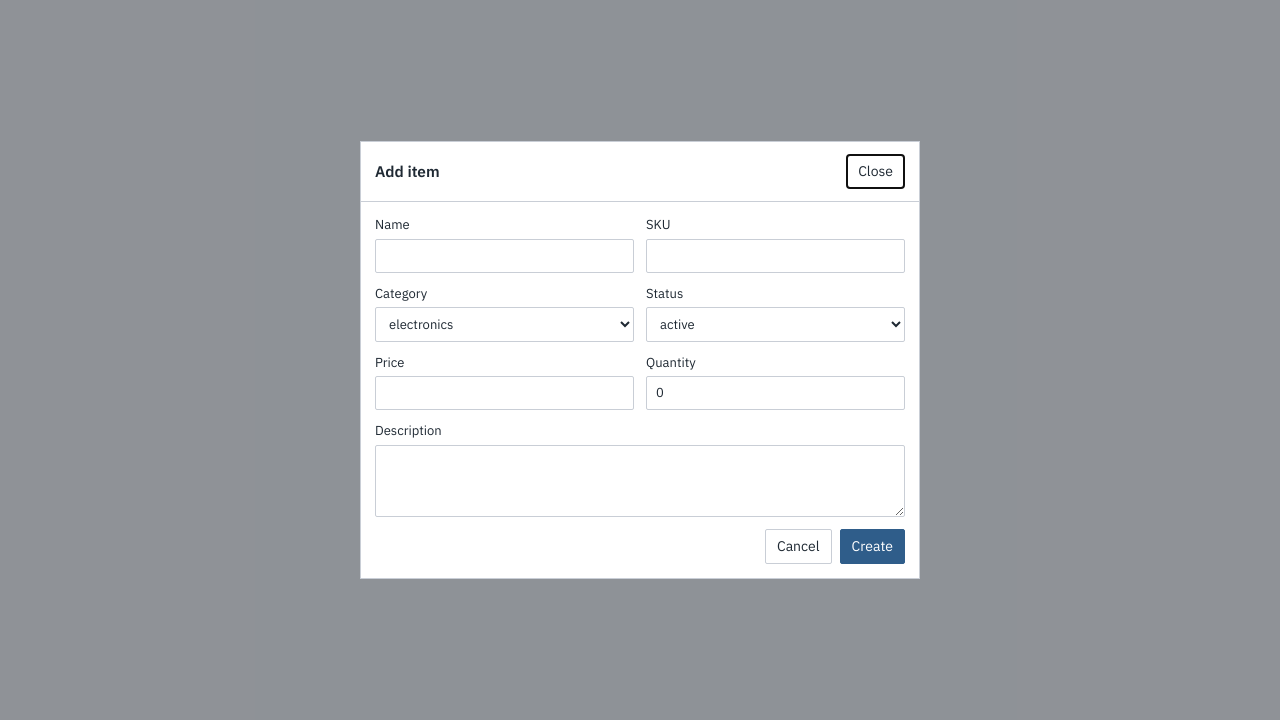
ItemFormModal › shows validation error when name missing
The width and height of the screenshot is (1280, 720).
Type "SKU-X" into the field labelled "SKU".
click(776, 256); type("SKU-X")  # box x1=646 y1=239 x2=905 y2=273
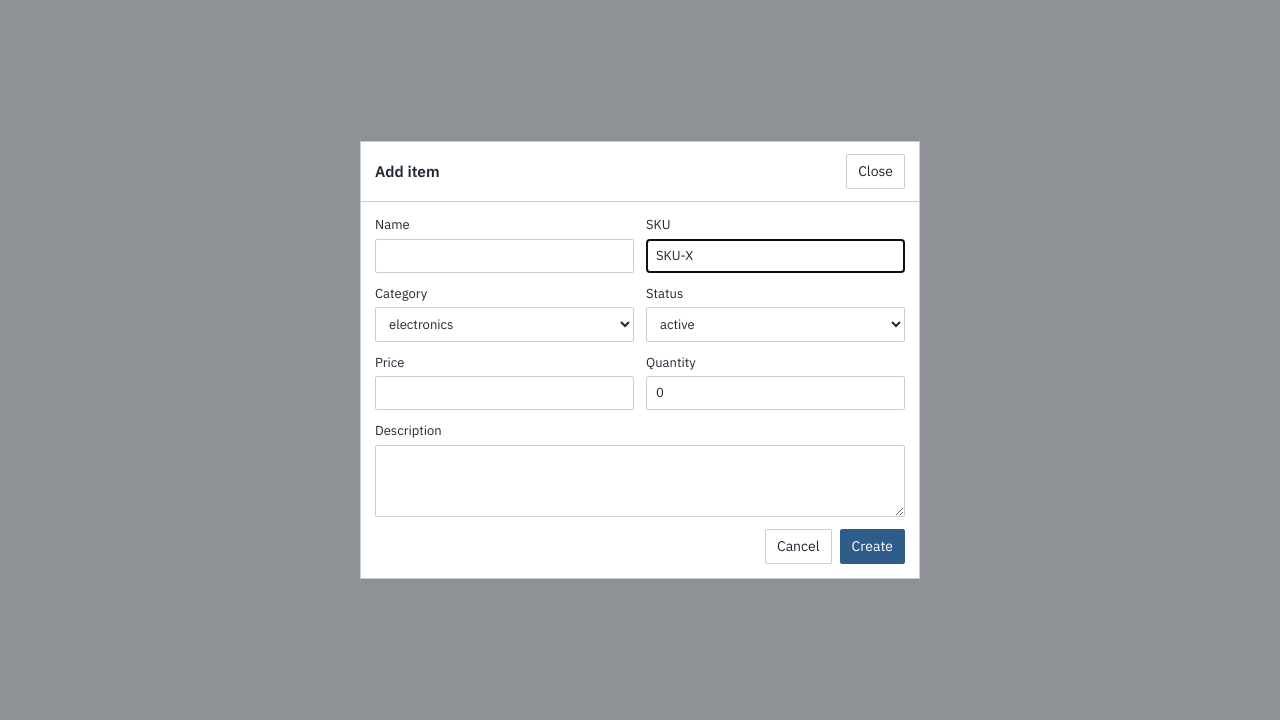
Type "1" into the number field labelled "Price".
click(504, 393); type("1")  # box x1=375 y1=376 x2=634 y2=410
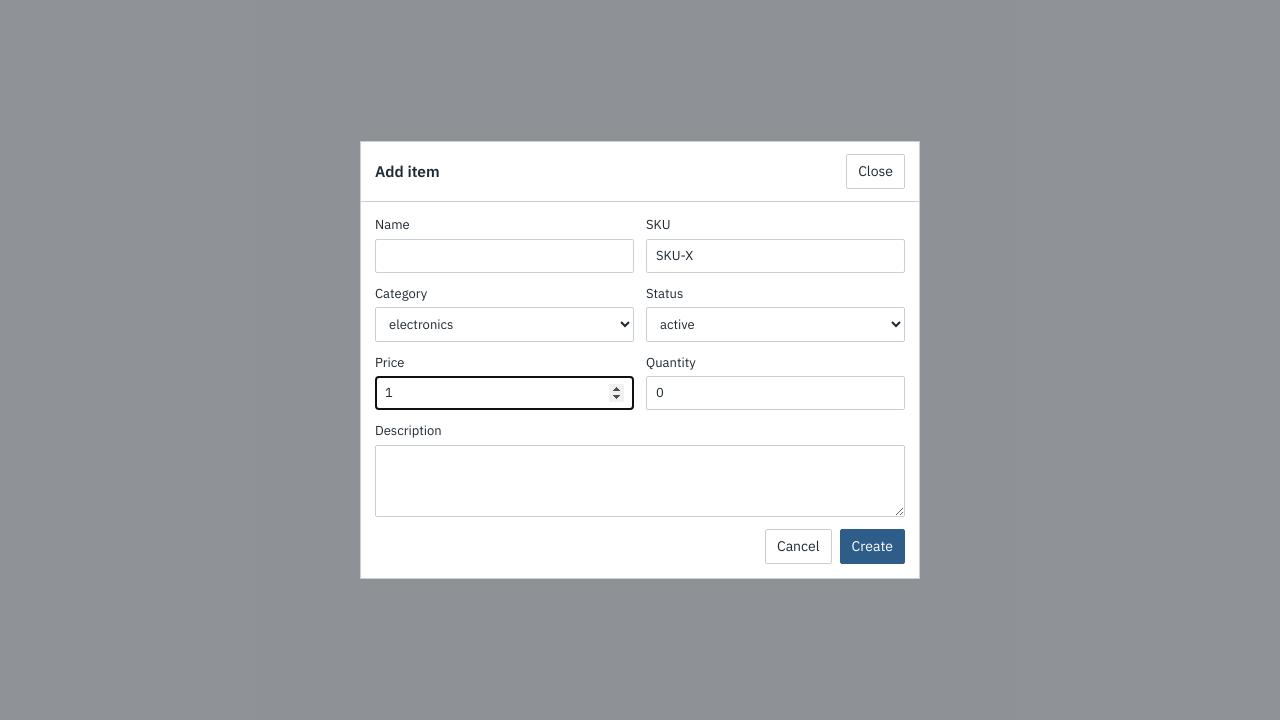
Click the button "Create".
click(872, 546)  # box x1=840 y1=529 x2=905 y2=564
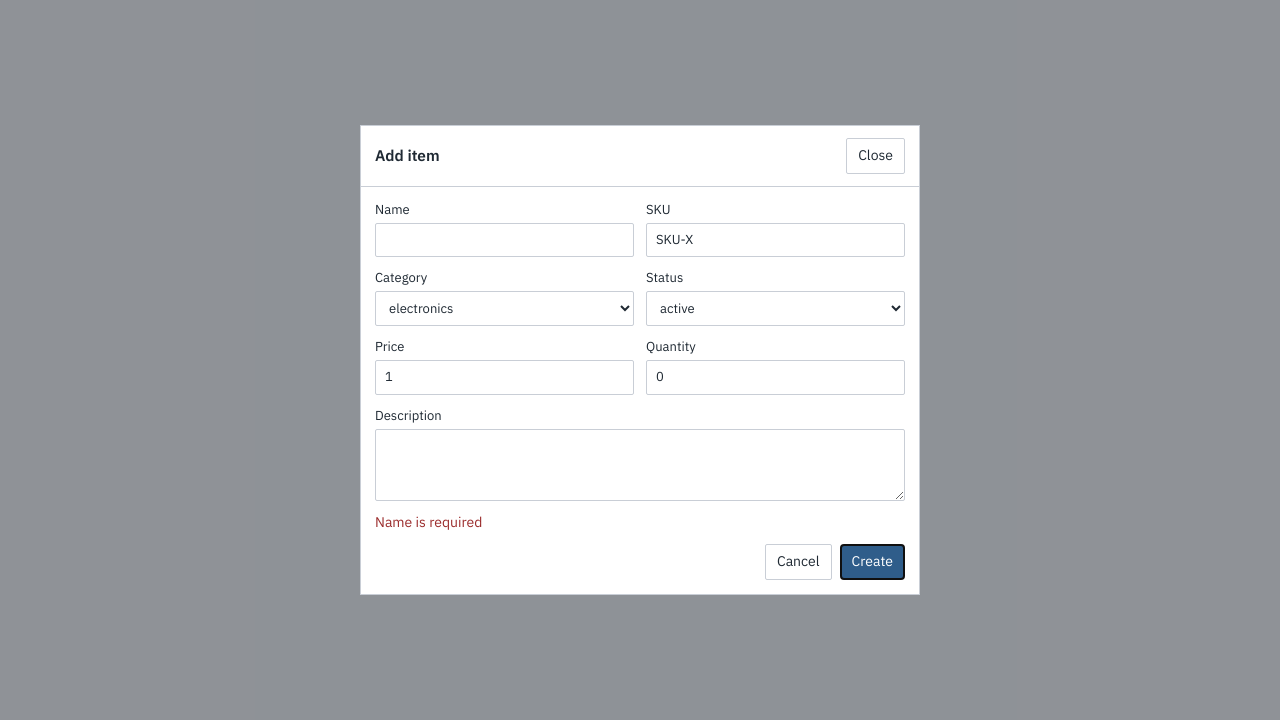
Result: the text "Name is required" is shown at x1=375 y1=513 x2=482 y2=531
